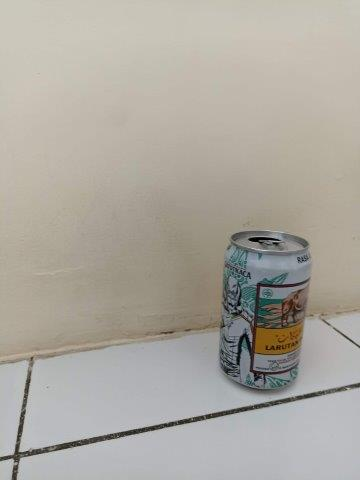kaleng: (222, 232, 309, 390)
